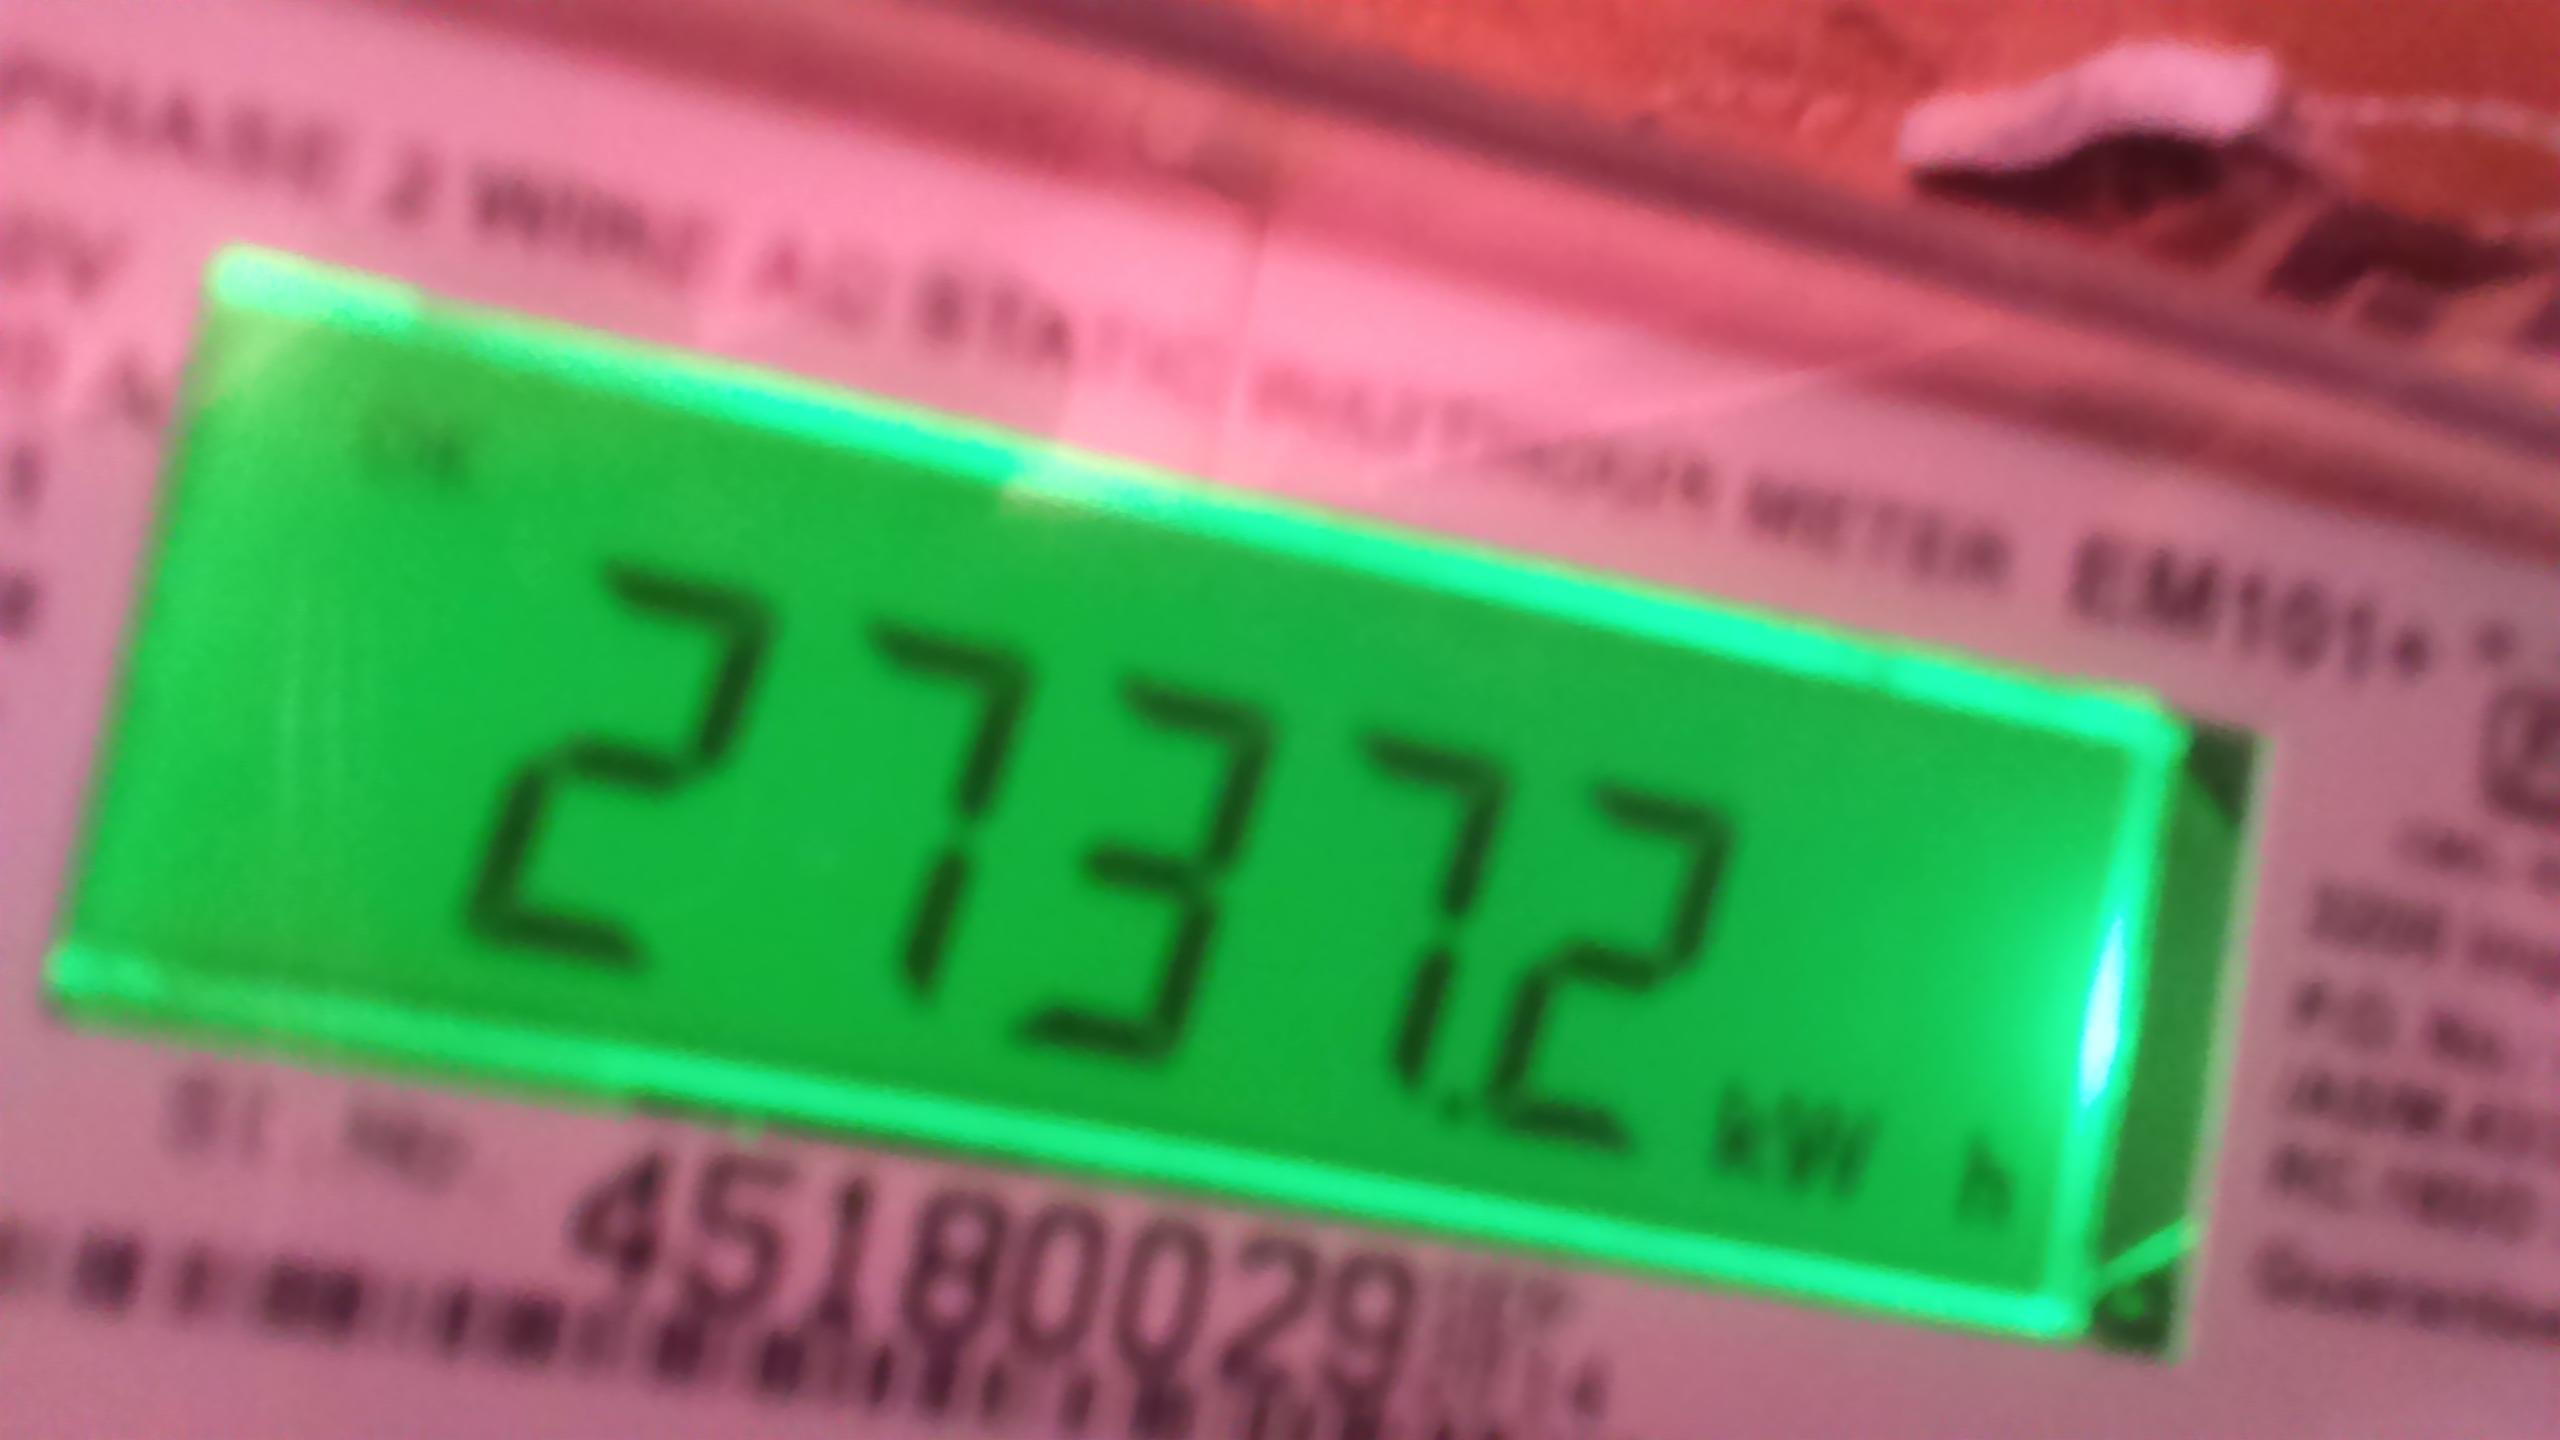.: (1676, 1063, 2041, 1251)
0: (1427, 1043, 1514, 1152)
3: (381, 518, 807, 976), (1474, 768, 1742, 1126)
4: (988, 663, 1317, 1072)
8: (781, 598, 1062, 1059), (1298, 658, 1532, 1072)
